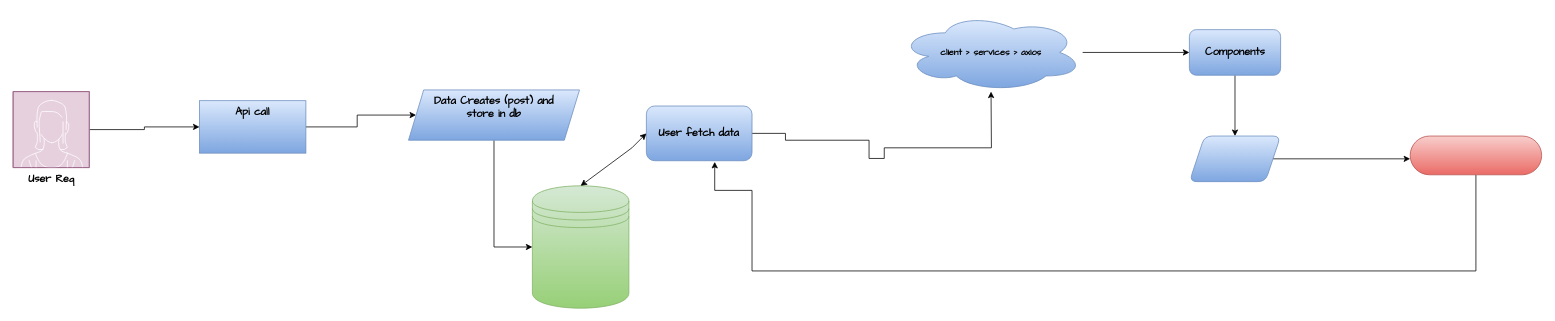
Image size: 1555x321. Some labels were removed from this diagram. Here are the shapes that lost their labels. From the top down, the centre of each, then its label:
At pixel 1235 158: "Pages".
At pixel 1475 155: "Dashboard".
At pixel 580 246: "SCMS Database".
